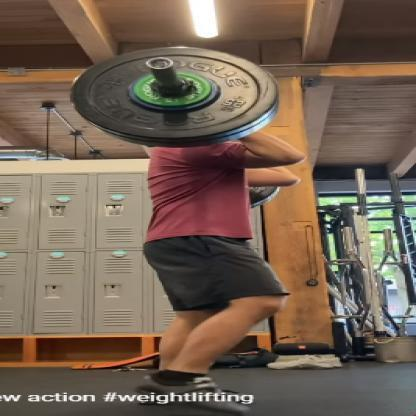Barbell: (147, 58, 178, 72)
